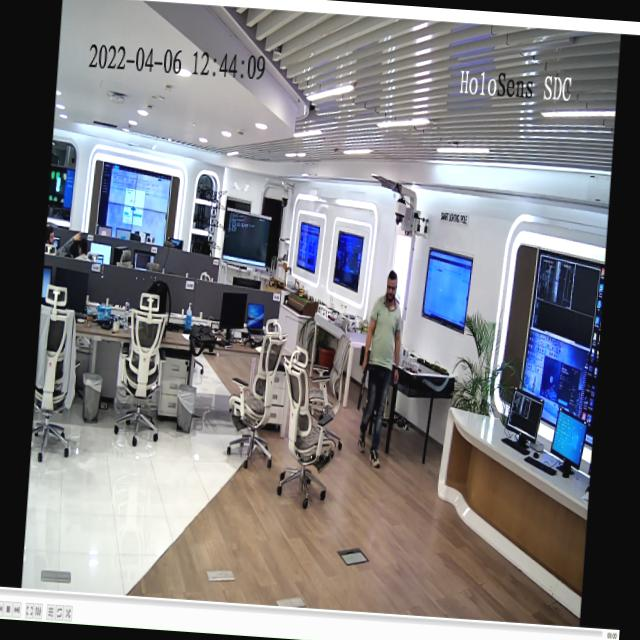long weapon: (354, 341, 374, 418)
